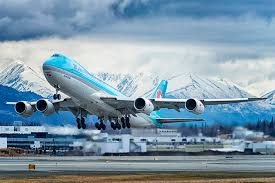maybay_dansu: (12, 55, 265, 133)
